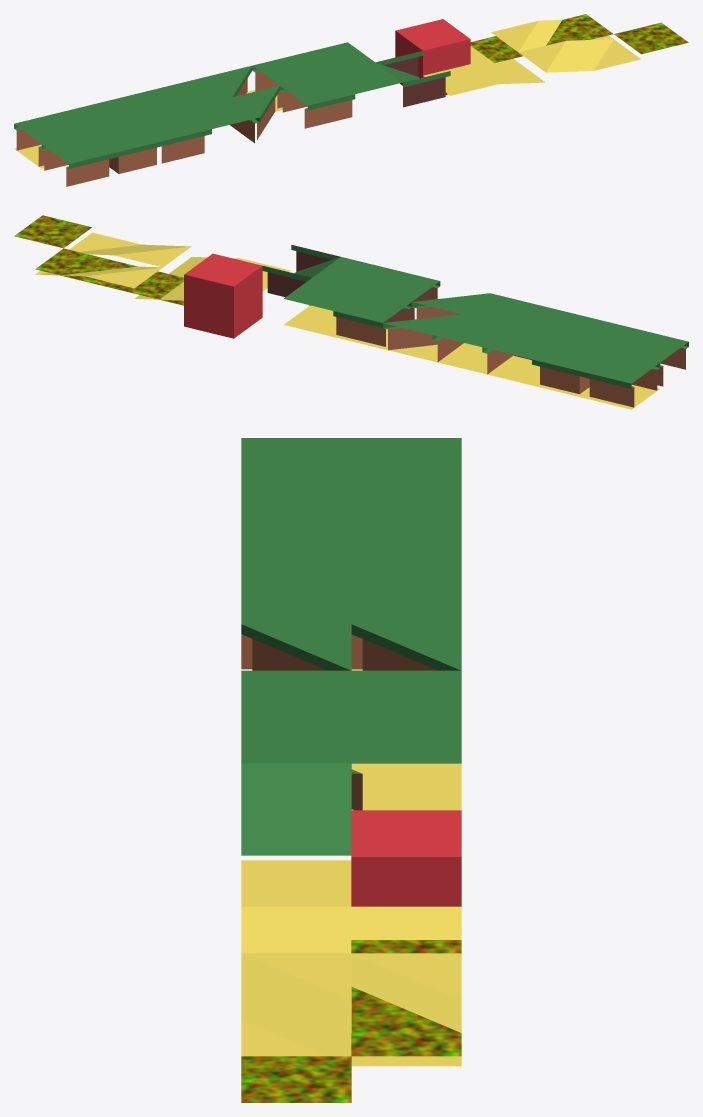
The model's file is Tiles.glb.
3 views of the same model, one above another, from view 1: azimuth 30°, elevation 25°; view 2: azimuth 150°, elevation 25°; view 3: azimuth 270°, elevation 25° (orthographic). The views are drawn at different scales.
Visible parts, largest first — view 1: Error, Hill_Opposite_Edges, Hill_3_Edges, Hill_4_Edges, Hill_Corner, Hill_3_Edges_Sand, Hill_Ramp, Hill_Opposite_Edges_Sand, Hill_1_Edge, Sand_Diagonal_2, Sand_Diagonal, Sand_Diagonal_Water (+12 smaller); view 2: Error, Hill_3_Edges_Sand, Hill_Opposite_Edges_Sand, Hill_Corner_Sand, Hill_1_Edge_Sand, Hill_4_Edges_Sand, Hill_Inner_Corner_Sand, Hill_Diagonal_Sand, Hill_3_Edges, Hill_Ramp, Hill_Opposite_Edges, Sand_Diagonal_Water (+11 smaller); view 3: Error, Hill_Ramp, Hill_Inner_Corner_Sand, Sand_Diagonal_2_Water, Sand_Diagonal, Sand_Diagonal_Water, Hill_Opposite_Edges_Sand, Hill_1_Edge_Sand, Hill_1_Edge, Hill_Opposite_Edges, Sand_Edge, Sand_Edge_Water (+12 smaller).
Part boxes in pixels (left/top/right/bottom): Error: left=395, top=19, right=470, bottom=94; Hill_Opposite_Edges: left=280, top=74, right=355, bottom=128; Hill_3_Edges: left=41, top=132, right=116, bottom=186; Hill_4_Edges: left=89, top=120, right=164, bottom=173; Hill_Corner: left=137, top=109, right=211, bottom=163; Hill_3_Edges_Sand: left=14, top=112, right=88, bottom=168; Hill_Ramp: left=375, top=51, right=450, bottom=107; Hill_Opposite_Edges_Sand: left=252, top=54, right=326, bottom=110; Hill_1_Edge: left=185, top=97, right=259, bottom=143; Sand_Diagonal_2: left=566, top=39, right=640, bottom=70; Sand_Diagonal: left=518, top=41, right=593, bottom=72; Sand_Diagonal_Water: left=491, top=20, right=560, bottom=57; Error: left=184, top=253, right=262, bottom=338; Hill_3_Edges_Sand: left=582, top=350, right=659, bottom=409; Hill_Opposite_Edges_Sand: left=333, top=290, right=411, bottom=348; Hill_Corner_Sand: left=482, top=326, right=560, bottom=385; Hill_1_Edge_Sand: left=432, top=314, right=510, bottom=373; Hill_4_Edges_Sand: left=532, top=338, right=609, bottom=397; Hill_Inner_Corner_Sand: left=284, top=278, right=361, bottom=336; Hill_Diagonal_Sand: left=383, top=314, right=460, bottom=360; Hill_3_Edges: left=611, top=329, right=688, bottom=386; Hill_Ramp: left=262, top=244, right=340, bottom=297; Hill_Opposite_Edges: left=362, top=269, right=440, bottom=319; Sand_Diagonal_Water: left=85, top=260, right=162, bottom=293; Error: left=351, top=810, right=461, bottom=906; Hill_Ramp: left=241, top=763, right=351, bottom=855; Hill_Inner_Corner_Sand: left=351, top=717, right=461, bottom=810; Sand_Diagonal_2_Water: left=351, top=1000, right=461, bottom=1066; Sand_Diagonal: left=241, top=953, right=351, bottom=1019; Sand_Diagonal_Water: left=351, top=953, right=461, bottom=1009; Hill_Opposite_Edges_Sand: left=351, top=670, right=461, bottom=767; Hill_1_Edge_Sand: left=351, top=577, right=461, bottom=670; Hill_1_Edge: left=241, top=577, right=351, bottom=669; Hill_Opposite_Edges: left=241, top=670, right=351, bottom=717; Sand_Edge: left=241, top=906, right=351, bottom=953; Sand_Edge_Water: left=351, top=906, right=461, bottom=953.
Bounding box in the file's own units: 26 × 2 × 4.
Materials: 2 (2 with a texture image).
